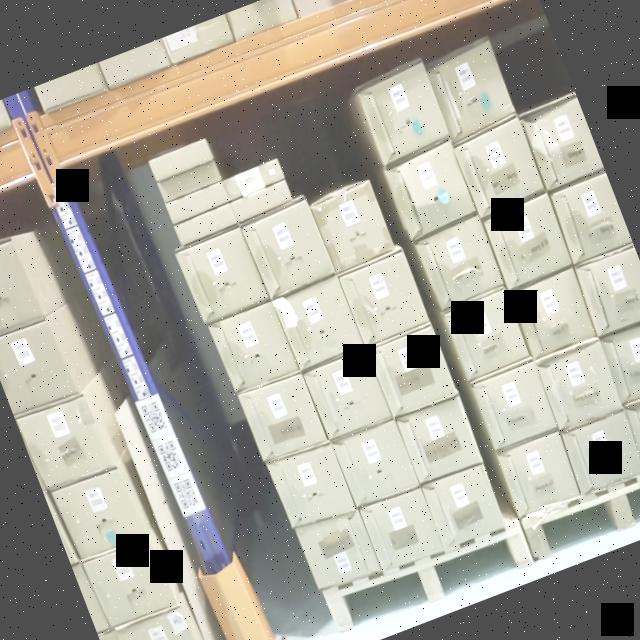box: (243, 202, 333, 294), (361, 70, 450, 162), (368, 326, 458, 416), (510, 264, 595, 358), (416, 222, 504, 312), (178, 232, 266, 320), (389, 153, 476, 240), (212, 306, 298, 394), (430, 47, 514, 137), (277, 279, 363, 366), (474, 364, 560, 451), (344, 259, 428, 348), (400, 398, 483, 488), (305, 352, 390, 439), (332, 420, 417, 507), (486, 200, 572, 284), (240, 378, 324, 463), (538, 342, 620, 429), (446, 294, 530, 378), (458, 126, 542, 210), (268, 446, 354, 528), (316, 187, 394, 270), (500, 435, 581, 514), (364, 491, 446, 568), (426, 468, 506, 546), (301, 513, 378, 592), (565, 414, 640, 489), (149, 138, 214, 182), (230, 180, 294, 220), (165, 185, 229, 224), (176, 206, 238, 244), (160, 165, 220, 201), (223, 166, 283, 200)
